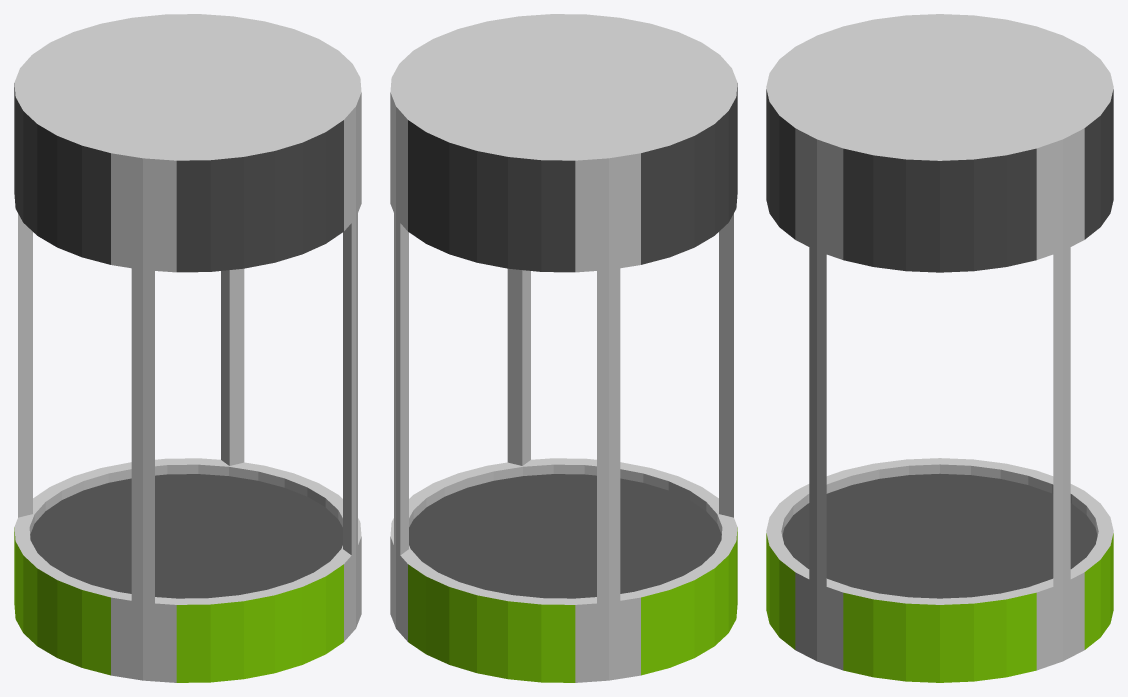
The model's file is Submarino.dae.
3 views of the same model, side by side, from view 1: azimuth 30°, elevation 25°; view 2: azimuth 150°, elevation 25°; view 3: azimuth 270°, elevation 25° (orthographic).
Parts seen in each view (by area): view 1: Cylinder.002; view 2: Cylinder.002; view 3: Cylinder.002.
Boxes of the visible parts, left/top/right/bottom form: Cylinder.002: left=14, top=14, right=361, bottom=682; Cylinder.002: left=390, top=14, right=737, bottom=682; Cylinder.002: left=766, top=14, right=1113, bottom=682.
Bounding box in the file's own units: 9.16 × 9.16 × 15.18.
